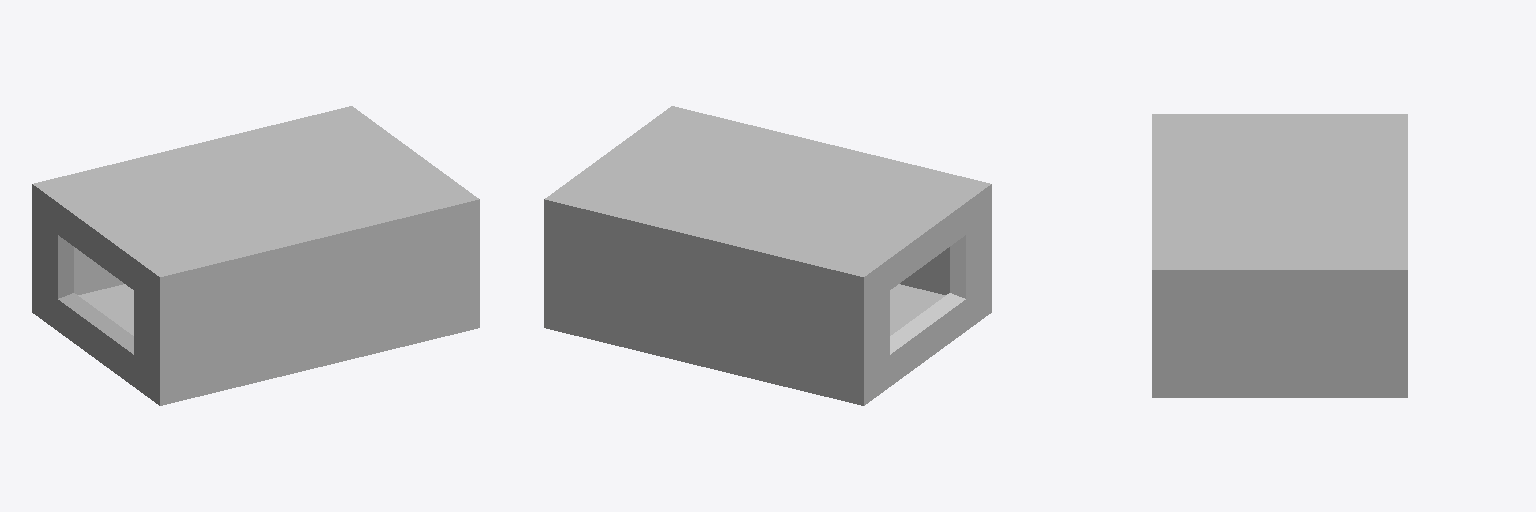
Rendered from room.obj.
The picture shows the model from 3 angles: view 1: azimuth 30°, elevation 25°; view 2: azimuth 150°, elevation 25°; view 3: azimuth 270°, elevation 25°; orthographic projection.
Visible parts, largest first — view 1: Cube.002_Cube; view 2: Cube.002_Cube; view 3: Cube.002_Cube.
Part boxes in pixels (bbox=[...]): Cube.002_Cube: bbox=[32, 106, 479, 405]; Cube.002_Cube: bbox=[544, 106, 991, 405]; Cube.002_Cube: bbox=[1152, 114, 1407, 397].
Bounding box in the file's own units: 6.5 × 2.5 × 4.5.